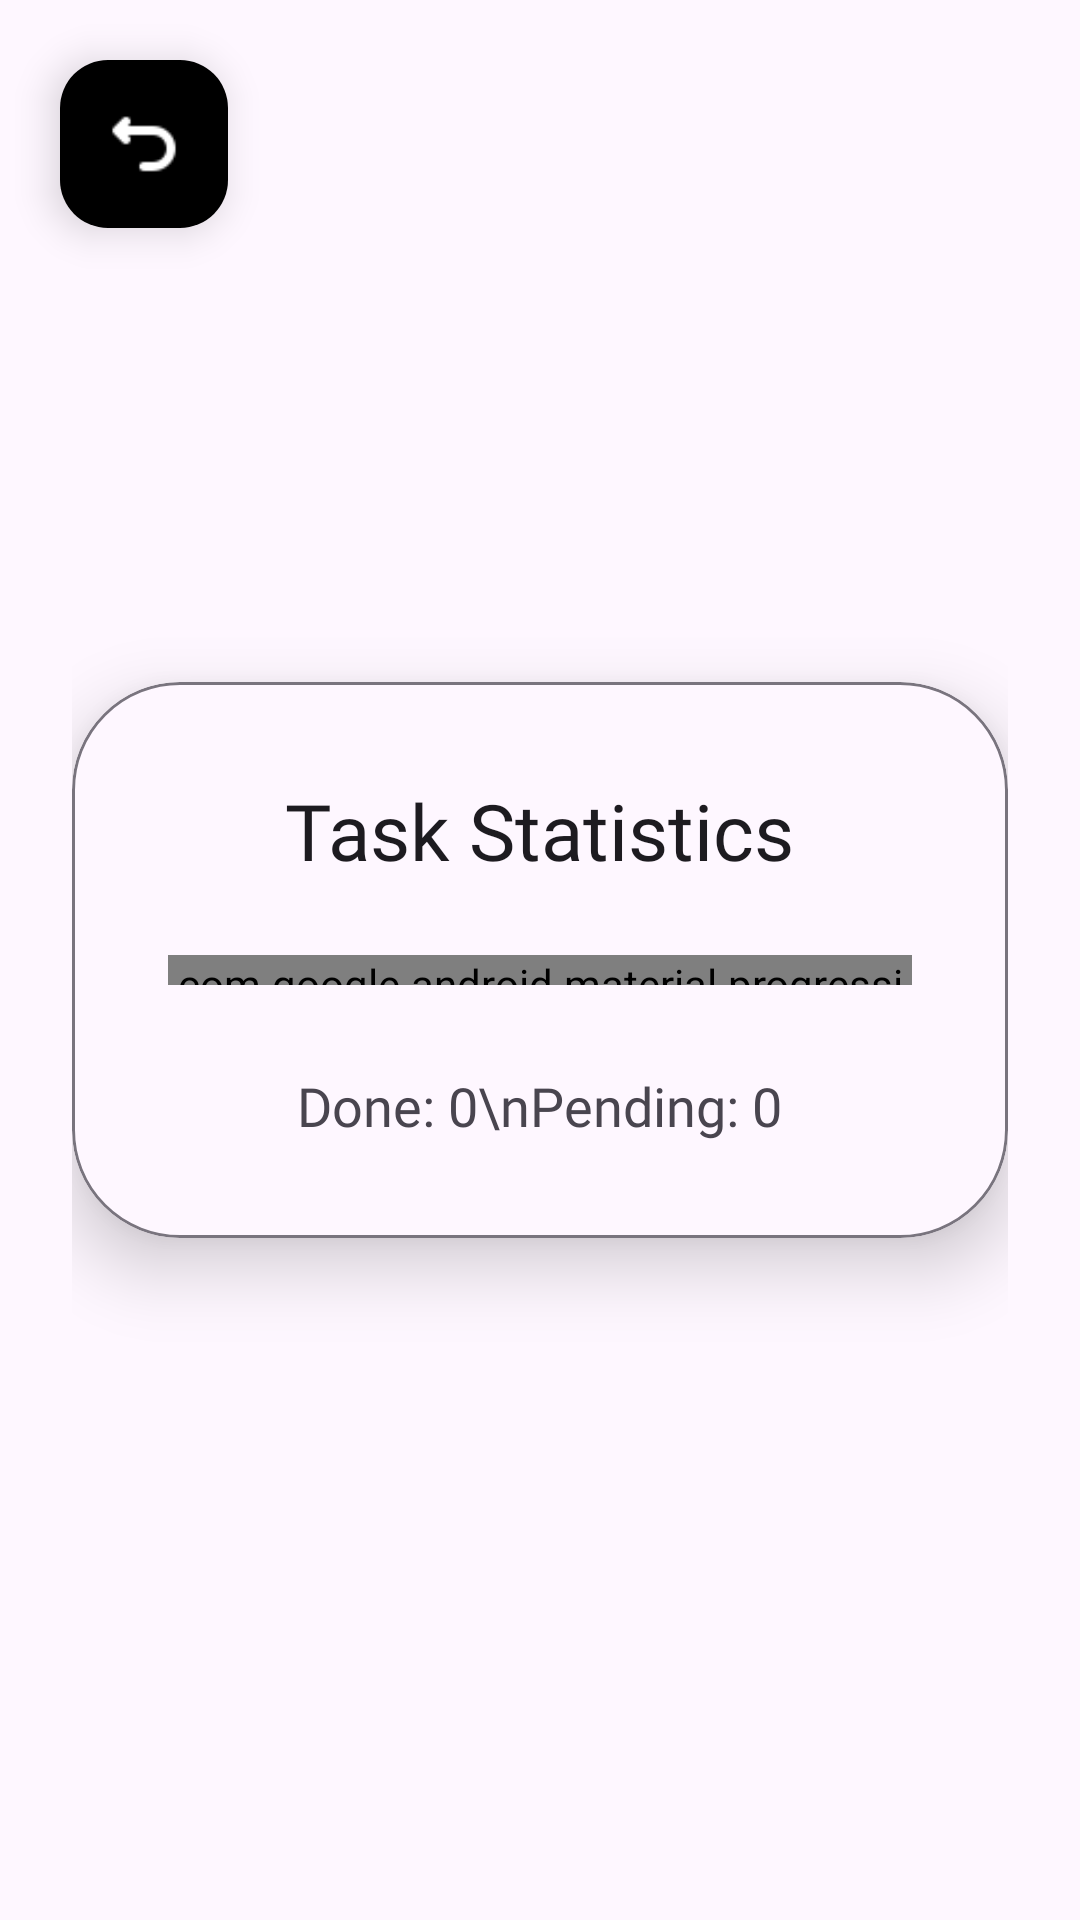

Named icons in this screenshot (1080px×1920px) and their centers, point (x, y):
back: point (144, 144)
